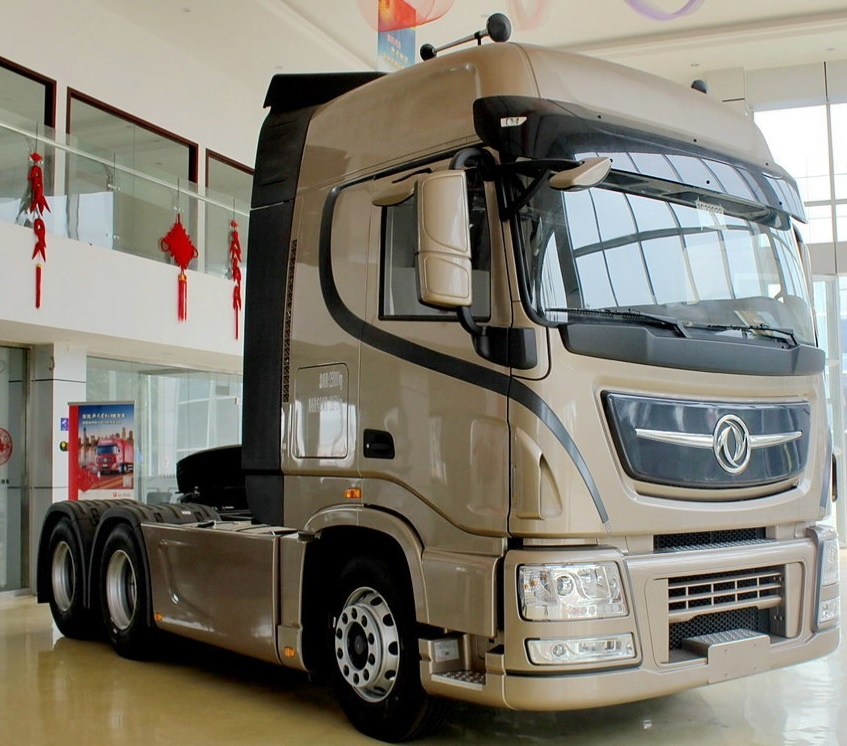heavy truck: (37, 29, 830, 717)
